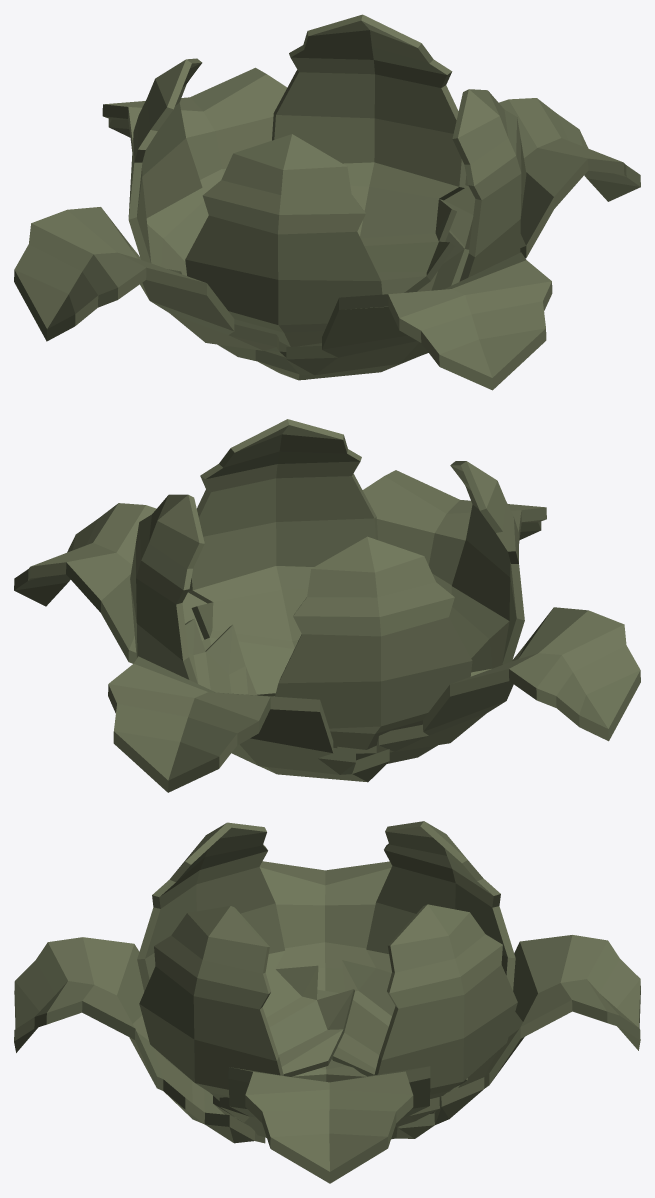
The model's file is lettuce_harvested.glb.
The picture shows the model from 3 angles, top to bottom: view 1: azimuth 30°, elevation 25°; view 2: azimuth 150°, elevation 25°; view 3: azimuth 270°, elevation 25°; orthographic projection. The views are drawn at different scales.
Parts seen in each view (by area): view 1: Lettuce_Harvested; view 2: Lettuce_Harvested; view 3: Lettuce_Harvested.
Part boxes in pixels (bbox=[...]): Lettuce_Harvested: bbox=[14, 14, 640, 390]; Lettuce_Harvested: bbox=[14, 419, 640, 792]; Lettuce_Harvested: bbox=[14, 821, 640, 1183].
Bounding box in the file's own units: 1.04 × 0.4742 × 1.04.
